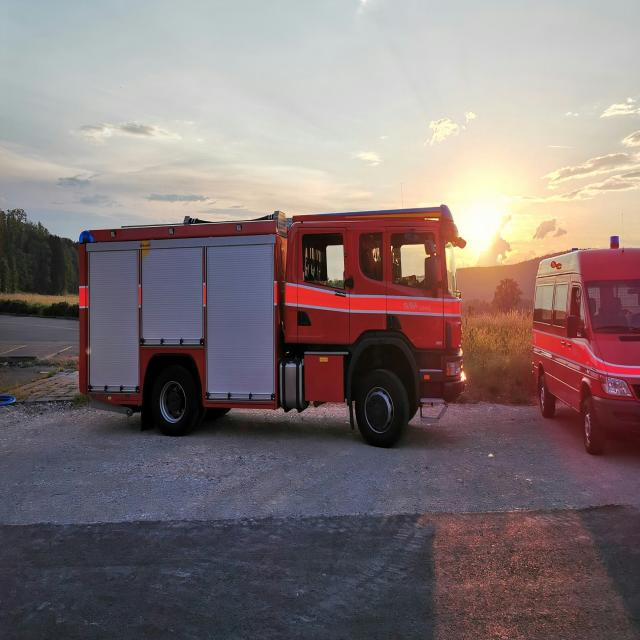bus: (532, 237, 640, 453)
emergency: (79, 206, 465, 446)
